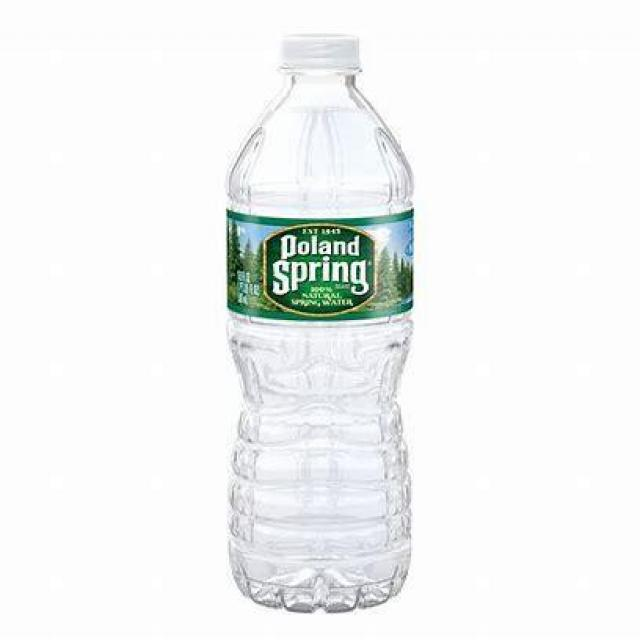bottle: (198, 12, 426, 605)
